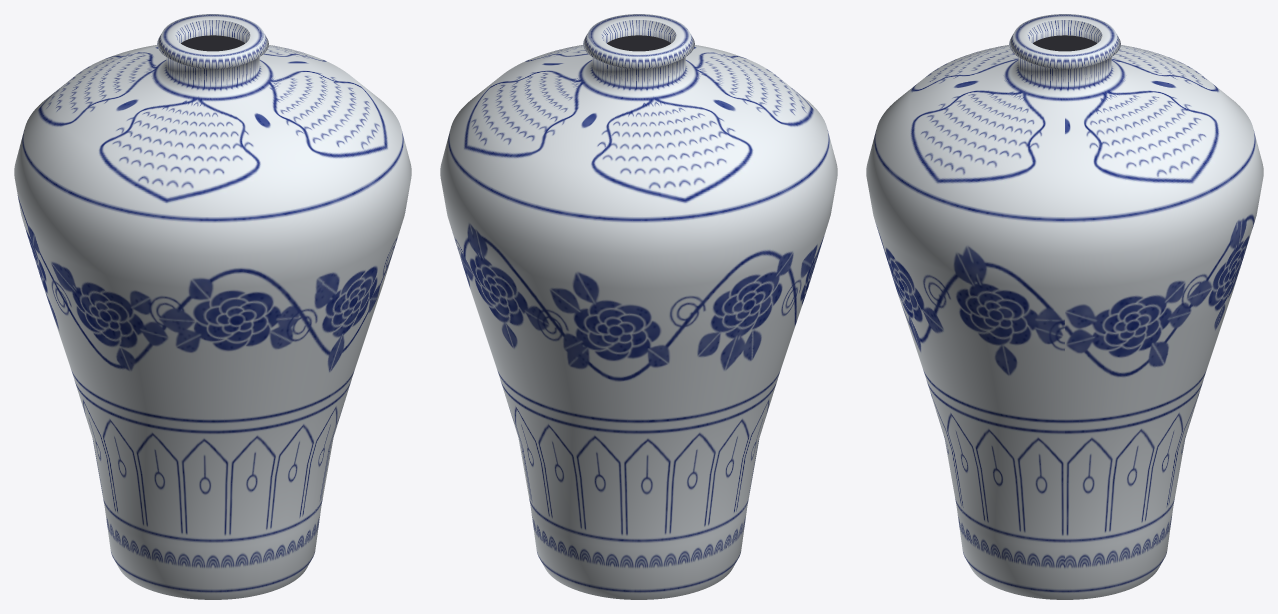
Rendered from meiping_vase.glb.
3 renders of one model, left to right at view 1: azimuth 30°, elevation 25°; view 2: azimuth 150°, elevation 25°; view 3: azimuth 270°, elevation 25°, orthographic.
Parts seen in each view (by area): view 1: meiping, meiping_mouth_inner; view 2: meiping, meiping_mouth_inner; view 3: meiping, meiping_mouth_inner.
Boxes of the visible parts, bbox=[...] form: meiping: bbox=[14, 14, 411, 599]; meiping_mouth_inner: bbox=[181, 35, 244, 51]; meiping: bbox=[440, 14, 837, 599]; meiping_mouth_inner: bbox=[607, 35, 670, 51]; meiping: bbox=[866, 14, 1263, 599]; meiping_mouth_inner: bbox=[1033, 35, 1096, 51].
Bounding box in the file's own units: 0.256 × 0.372 × 0.256.
Materials: 3 (1 with a texture image).
